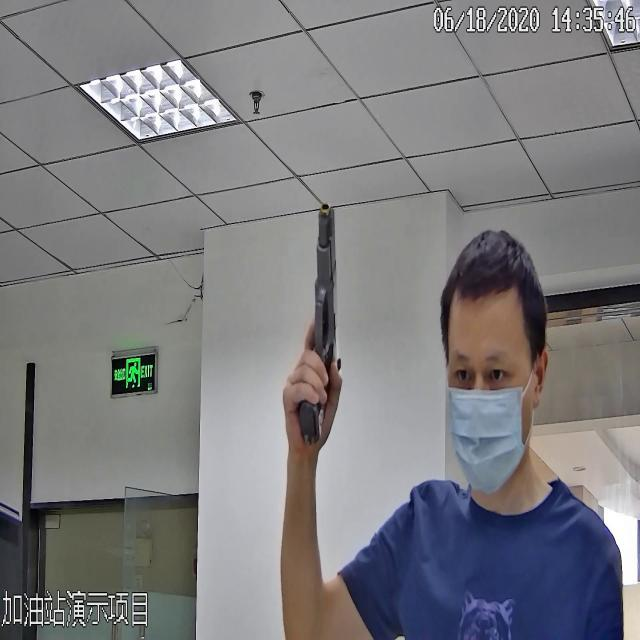gun-knife-thesis - v11 Yolov5 augmented: (293, 200, 342, 448)
